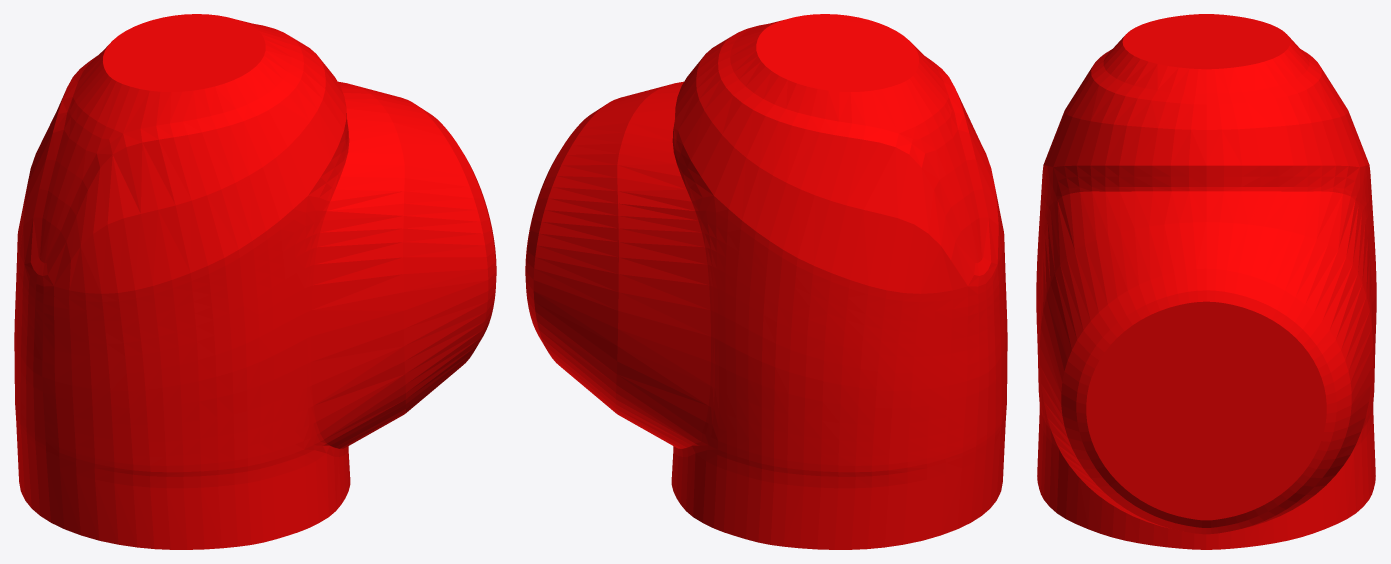
3 renders of one model, left to right at view 1: azimuth 30°, elevation 25°; view 2: azimuth 150°, elevation 25°; view 3: azimuth 270°, elevation 25°, orthographic.
Visible parts, largest first — view 1: MF0617_2_0; view 2: MF0617_2_0; view 3: MF0617_2_0.
Boxes of the visible parts, box(x1,y1,x2,y2) form: MF0617_2_0: box(14, 14, 496, 549); MF0617_2_0: box(525, 14, 1007, 549); MF0617_2_0: box(1036, 14, 1376, 549).
Size of the model in its own units: 213 by 152 by 219.
